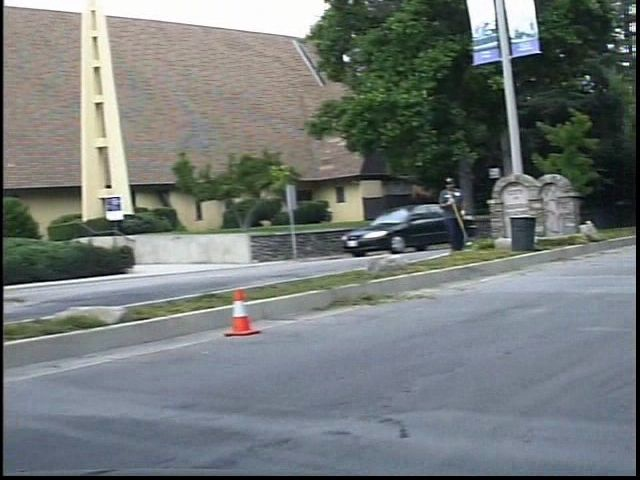person: (449, 175, 484, 257)
